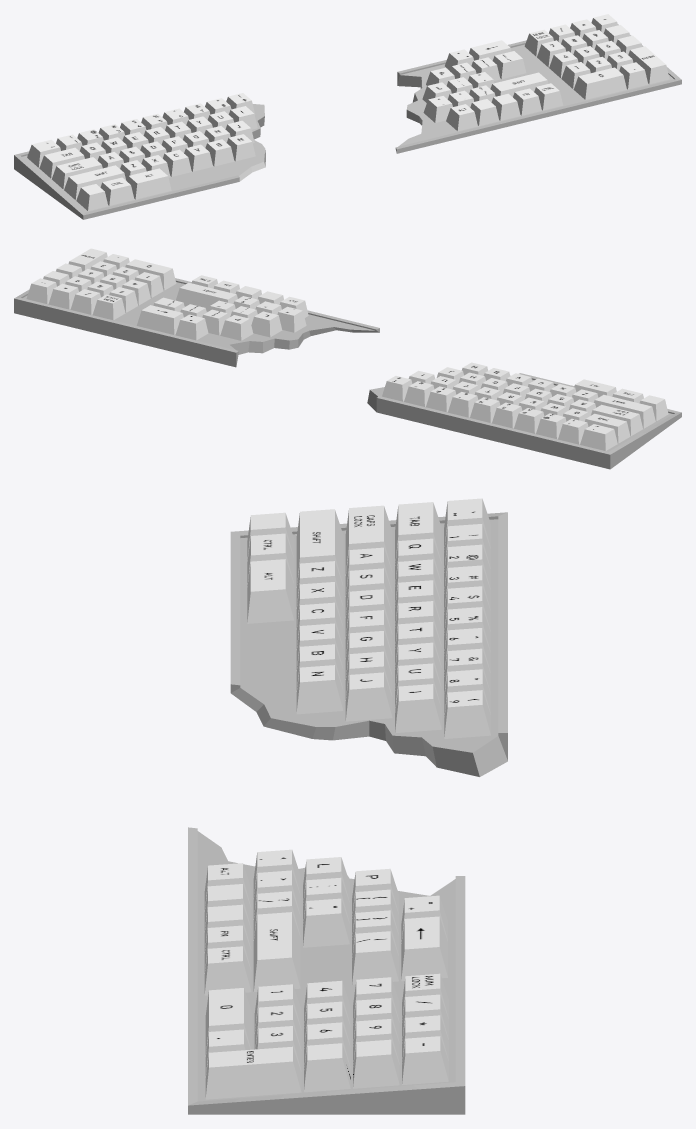
The model's file is klawiaturaRozbita.obj.
3 views of the same model, one above another, from view 1: azimuth 30°, elevation 25°; view 2: azimuth 150°, elevation 25°; view 3: azimuth 270°, elevation 25° (orthographic). The views are drawn at different scales.
Visible parts, largest first — view 1: klawiaturaRozbita01, klawiaturaRozbita02; view 2: klawiaturaRozbita01, klawiaturaRozbita02; view 3: klawiaturaRozbita01, klawiaturaRozbita02.
Part boxes in pixels (<box>): klawiaturaRozbita01: <box>395,14,681,153</box>; klawiaturaRozbita02: <box>14,93,265,219</box>; klawiaturaRozbita01: <box>14,248,379,367</box>; klawiaturaRozbita02: <box>367,362,681,469</box>; klawiaturaRozbita01: <box>188,827,465,1114</box>; klawiaturaRozbita02: <box>230,498,507,776</box>.
Bounding box in the file's own units: 0.7179 × 0.0311 × 0.1693.
2 materials, 1 textured.
